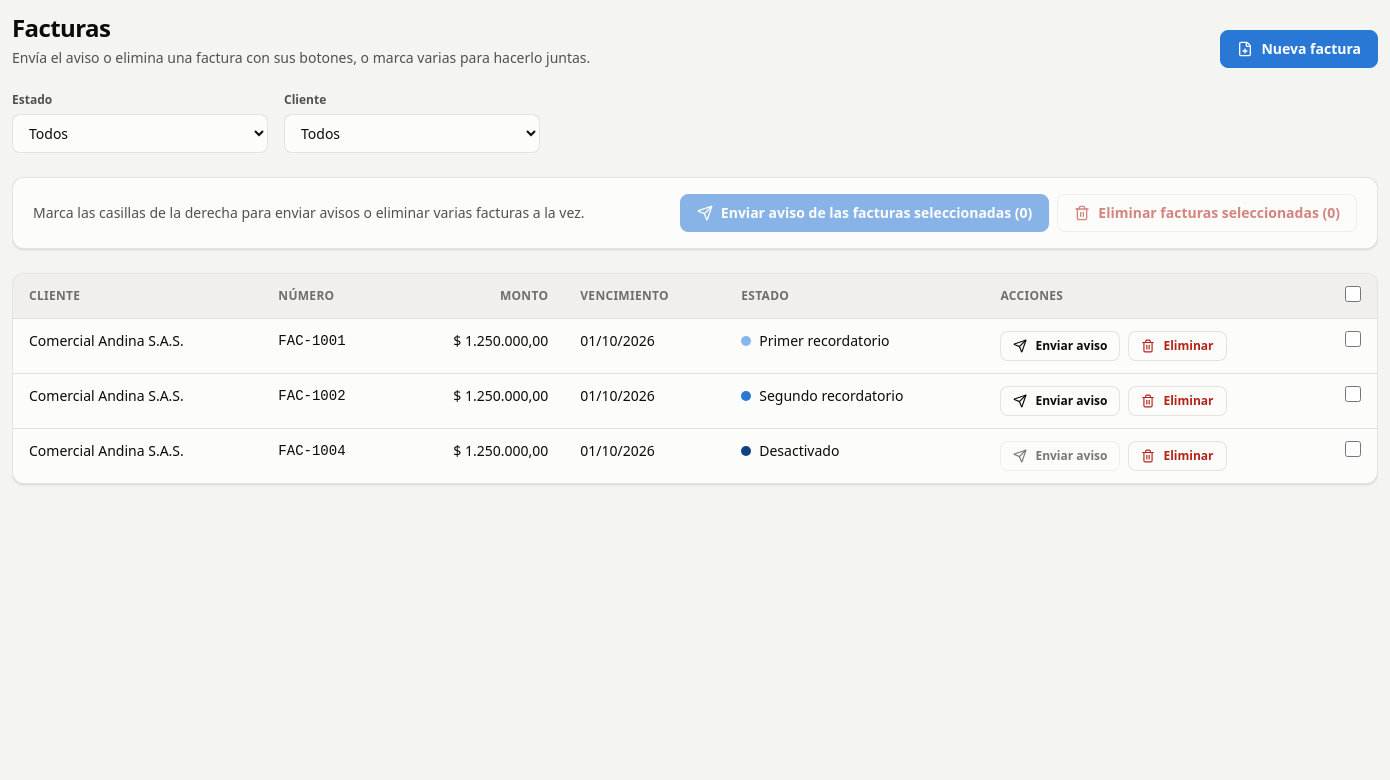
Test: FacturasPage: eliminar facturas › elimina la selección, incluida una desactivada, y limpia la selección
Step 1. Click the checkbox named "Seleccionar FAC-1001" → {"x": 1353, "y": 339}, box x1=1345 y1=331 x2=1361 y2=347
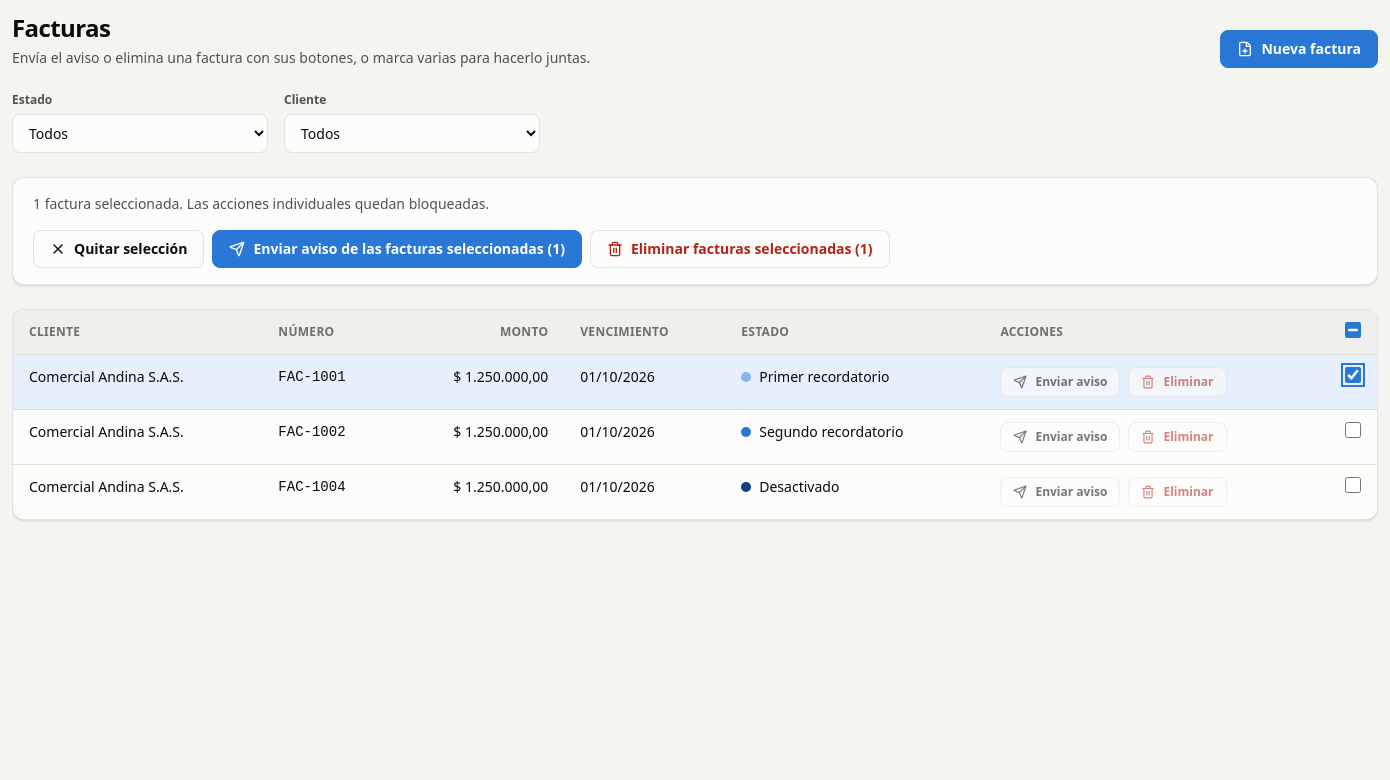
Step 2. Click the checkbox named "Seleccionar FAC-1004" → {"x": 1353, "y": 485}, box x1=1345 y1=477 x2=1361 y2=493
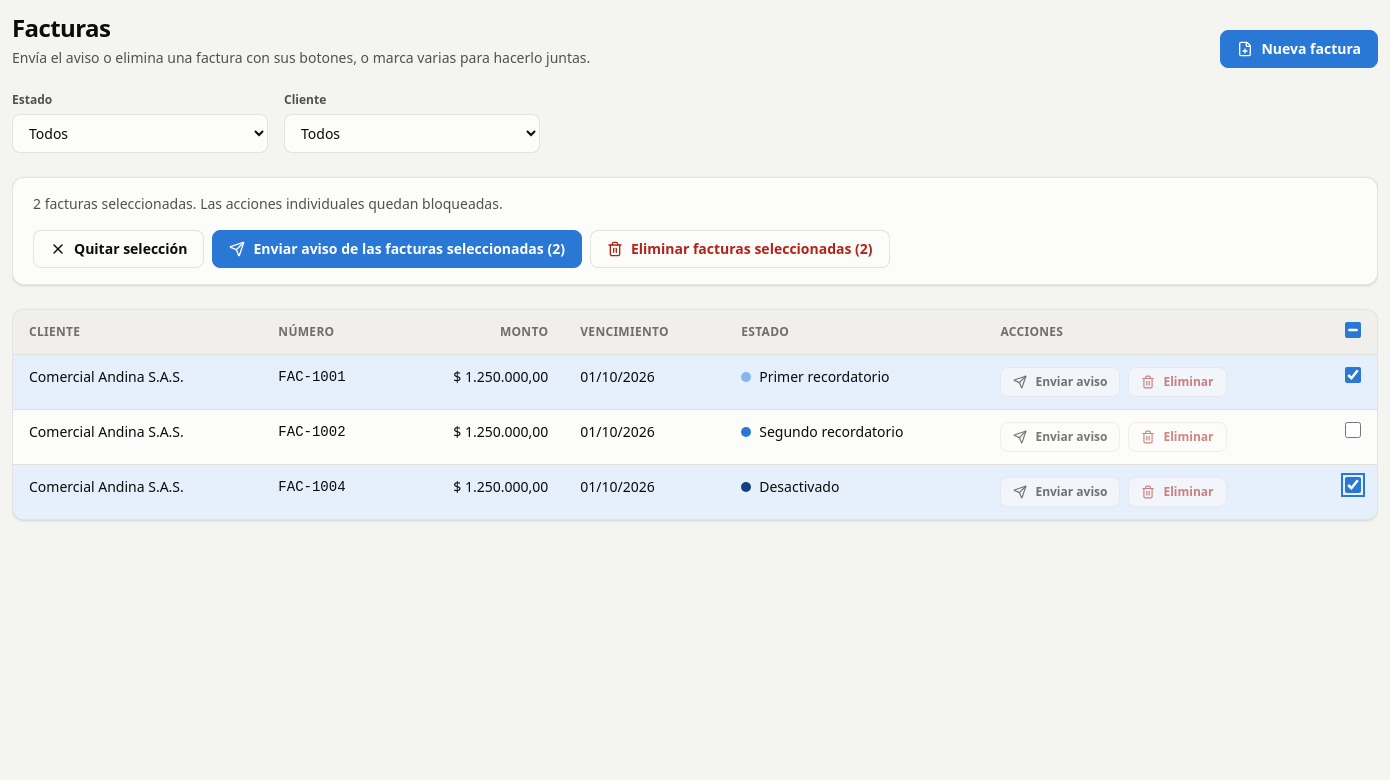
Step 3. Click the button "Eliminar facturas seleccionadas (2)" → {"x": 740, "y": 249}, box x1=590 y1=230 x2=890 y2=268
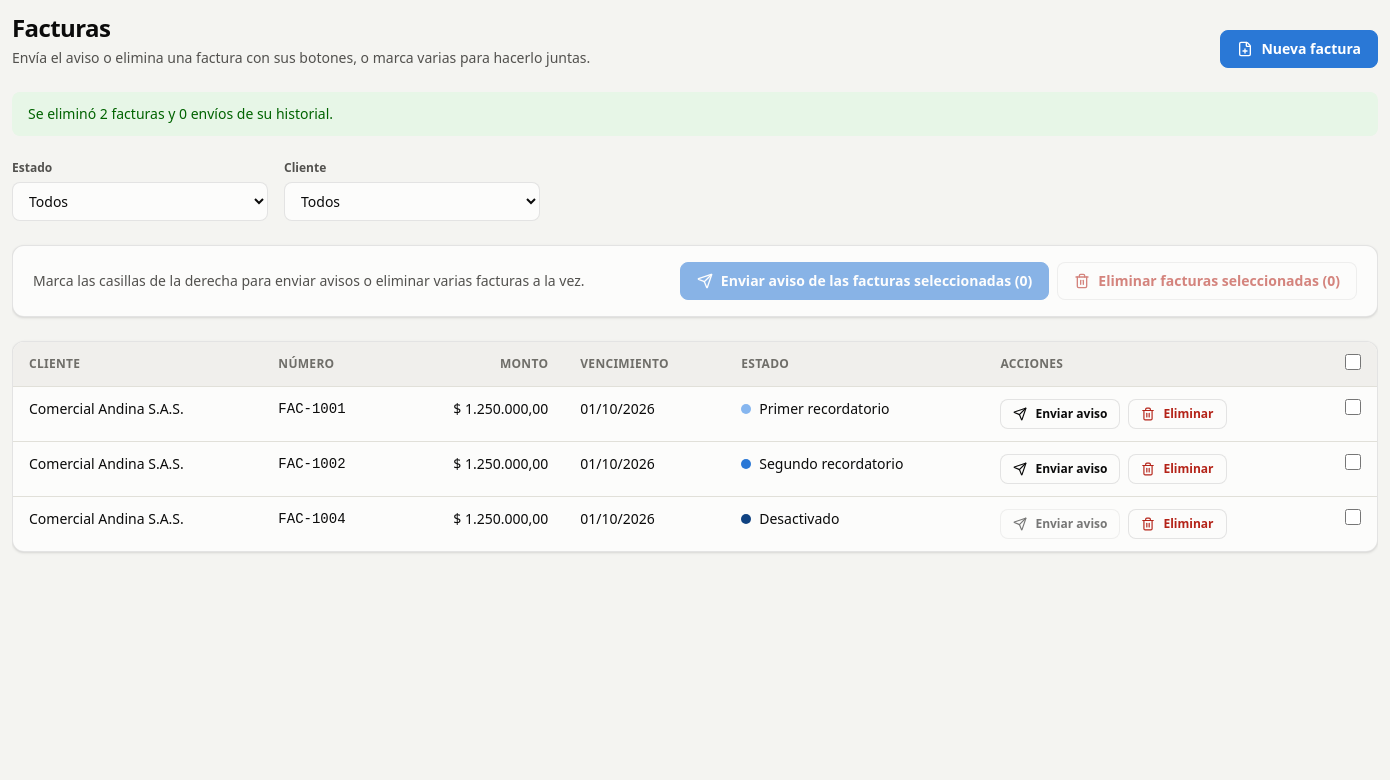
Expected: the message shows "Se eliminó 2 facturas", x1=28 y1=104 x2=333 y2=123
Expected: the button "Eliminar facturas seleccionadas (0)" is shown, x1=1057 y1=262 x2=1357 y2=300
